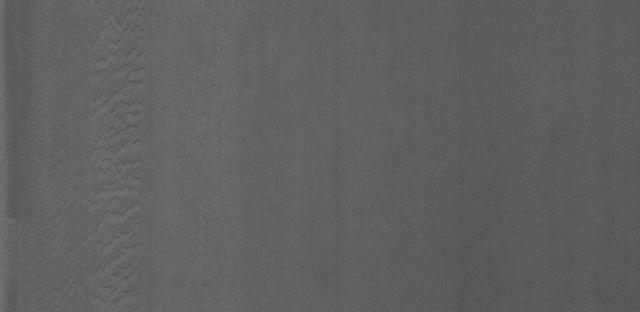silk_spot: (81, 7, 161, 284)
